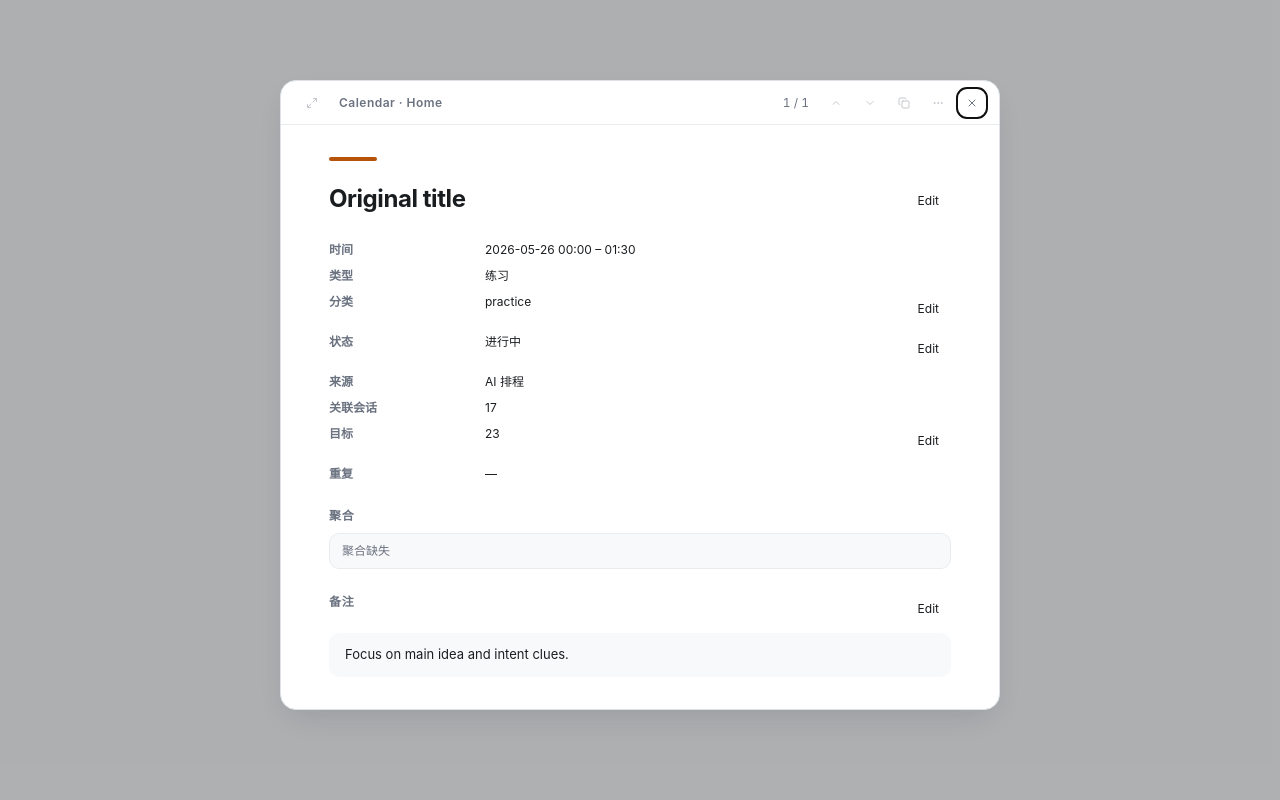
Test: CalendarPeekCard › rolls back title after a failed save and stays in editing state
Click the button titled "edit-title" in the row of "Original title" at point(928, 201), box [906,185,951,217]
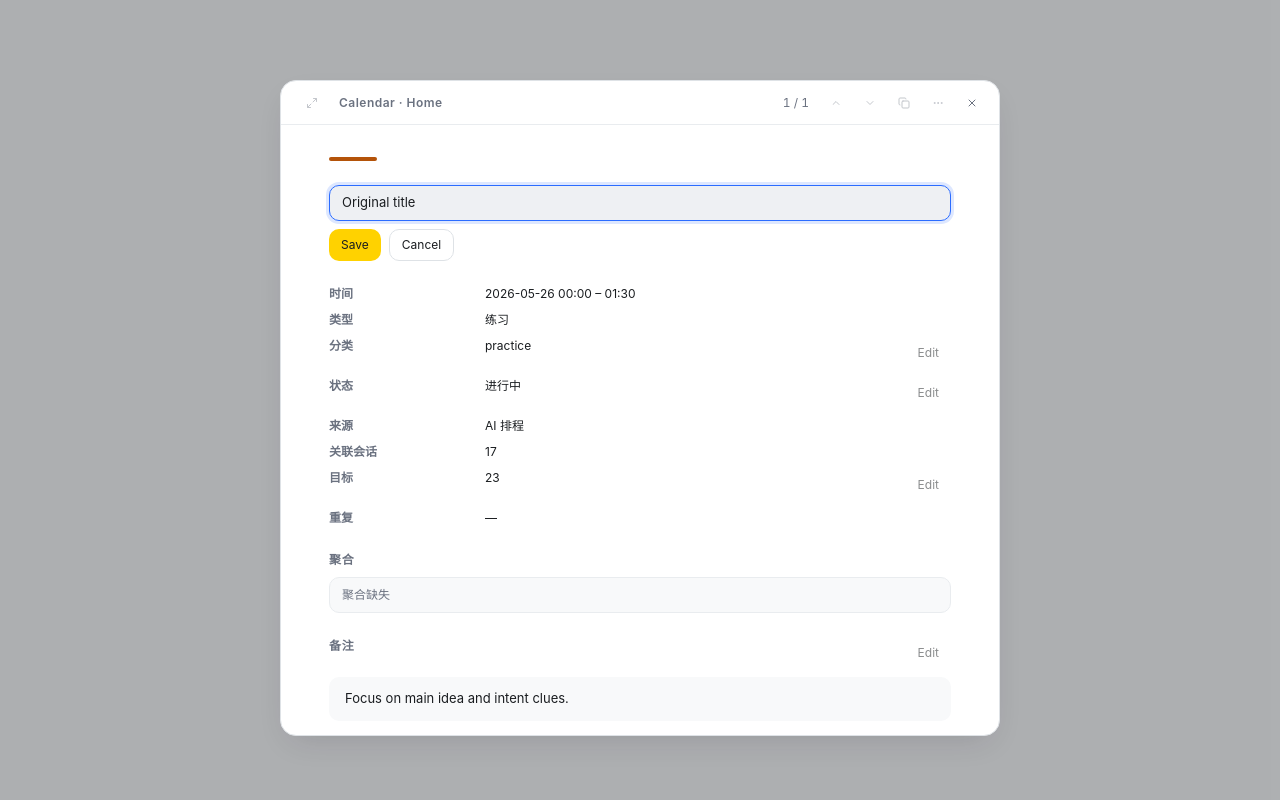
Replace the text in the field with "Broken title" at point(640, 203), box [342,193,938,213]
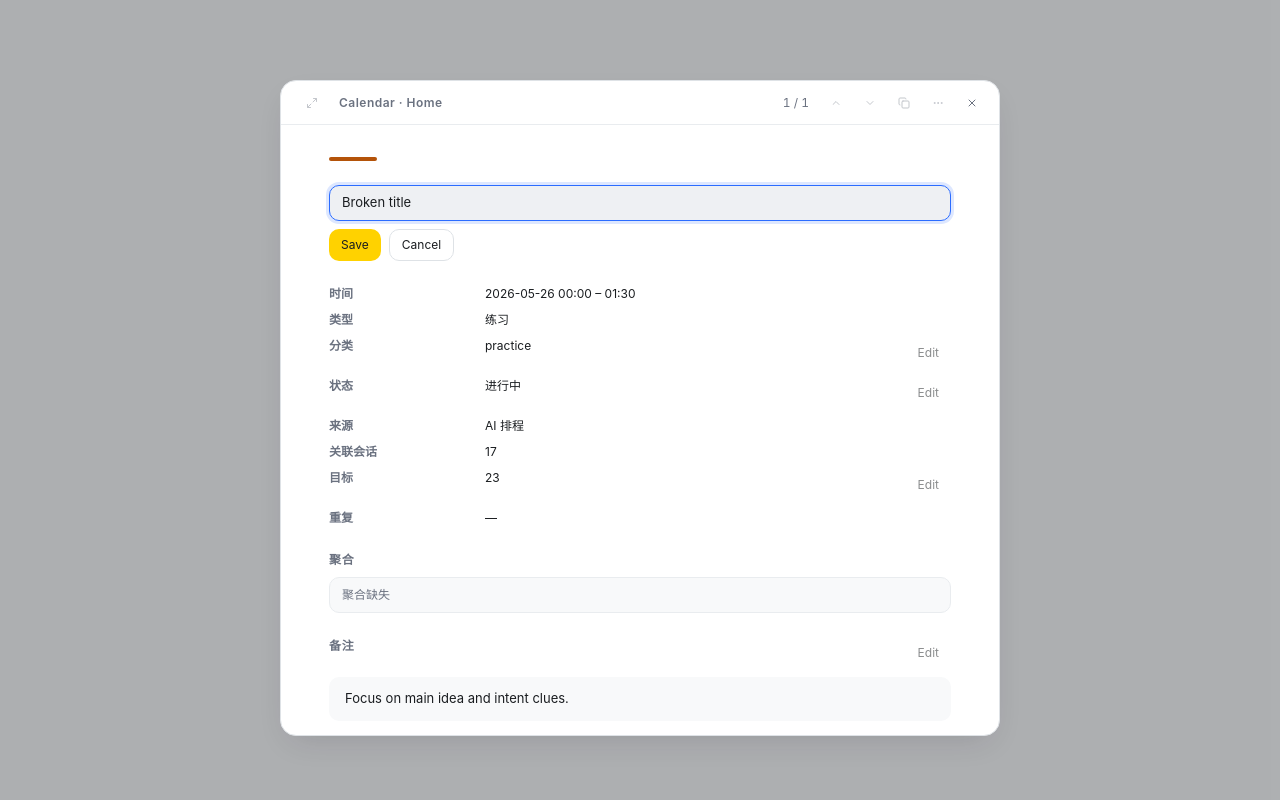
Press Enter
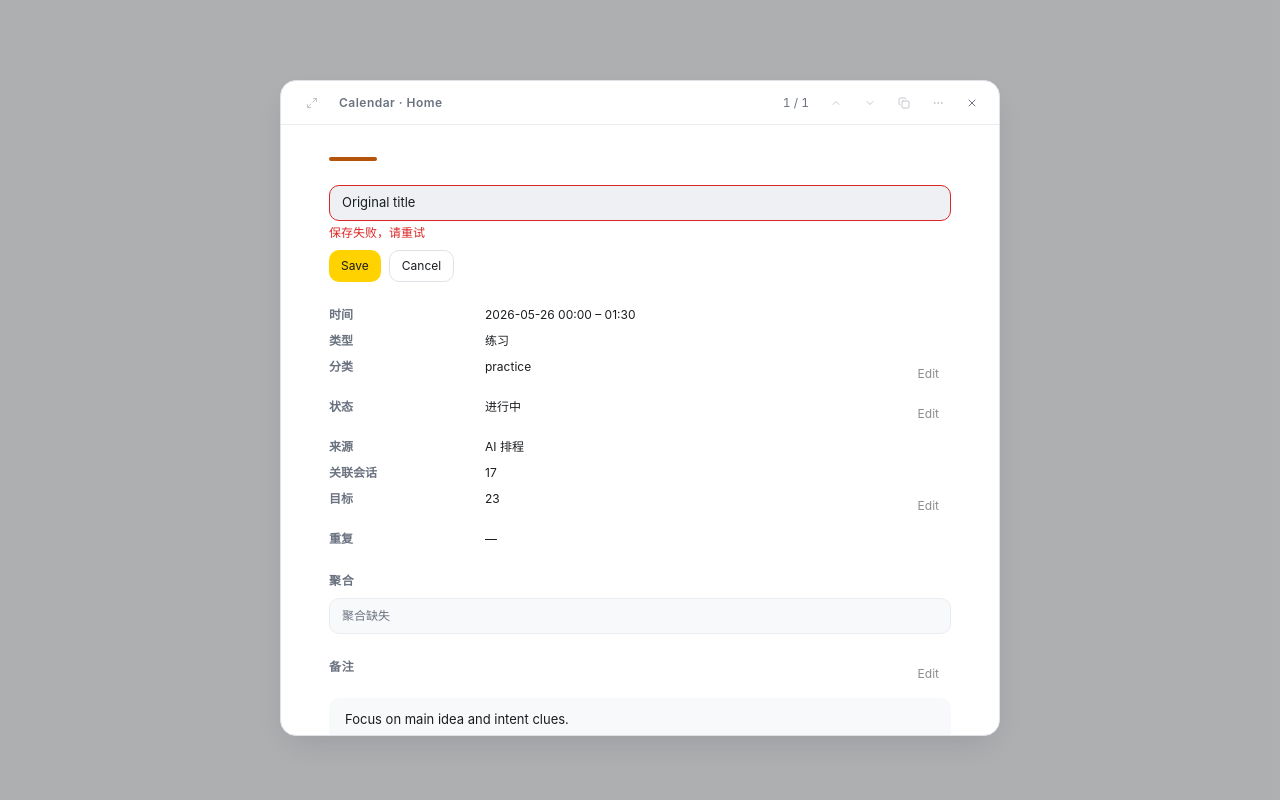
Check: the field holds "Original title", box [342,193,938,213]
Check: the text "保存失败，请重试" is shown, box [329,225,425,240]
